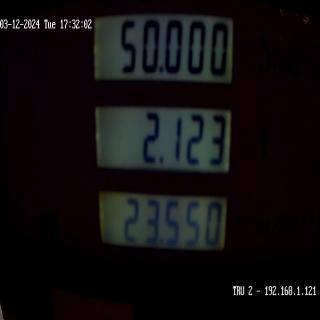screen: (90, 2, 240, 285)
